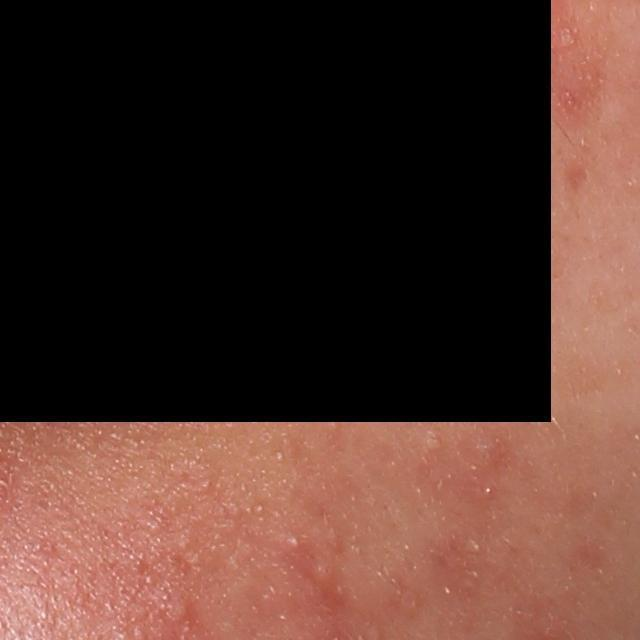atrophic_scar: (562, 160, 589, 196)
papule: (160, 595, 196, 625)
